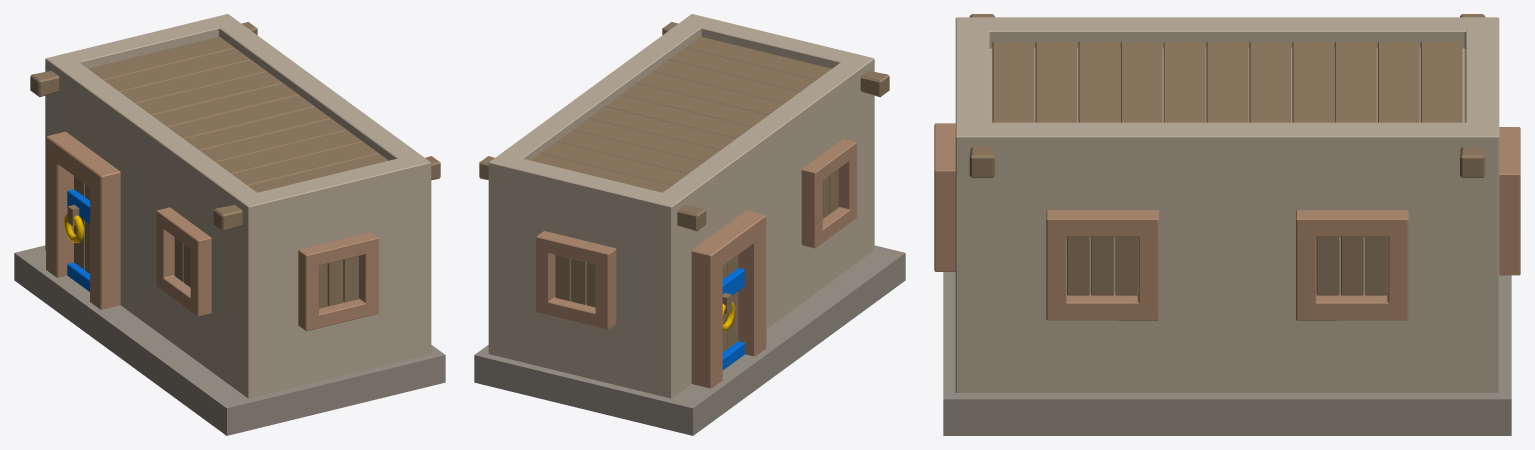
File: mesh_shack_03.fbx
The picture shows the model from 3 angles, left to right: view 1: azimuth 30°, elevation 25°; view 2: azimuth 150°, elevation 25°; view 3: azimuth 270°, elevation 25°; orthographic projection. The views are drawn at different scales.
Visible parts, largest first — view 1: mesh_shack_03; view 2: mesh_shack_03; view 3: mesh_shack_03.
Boxes of the visible parts, x1=… form: mesh_shack_03: x1=14, y1=14, x2=445, y2=435; mesh_shack_03: x1=474, y1=14, x2=905, y2=435; mesh_shack_03: x1=934, y1=14, x2=1520, y2=435.
Size of the model in its own units: 0.043 by 0.0401 by 0.0726.
